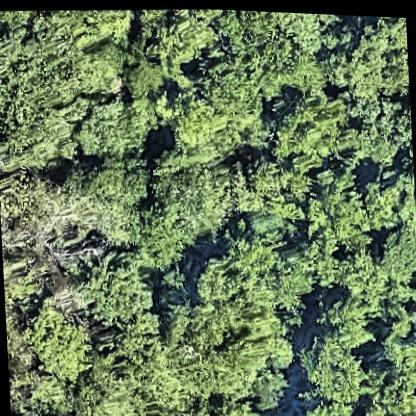tree-top: (144, 307, 270, 413), (0, 46, 111, 163), (209, 7, 321, 105), (192, 229, 296, 334), (146, 145, 236, 238), (170, 85, 258, 164), (230, 147, 310, 226), (72, 251, 154, 328), (66, 149, 150, 223), (330, 18, 406, 99), (270, 88, 348, 166), (297, 327, 368, 410), (75, 91, 154, 161), (26, 304, 94, 383), (305, 177, 375, 251), (140, 5, 218, 71), (0, 167, 77, 230), (344, 88, 412, 158), (69, 354, 145, 416), (44, 5, 135, 47), (363, 157, 416, 228), (2, 235, 48, 314), (316, 290, 376, 349), (340, 238, 396, 301), (374, 215, 416, 281), (377, 320, 416, 388), (357, 374, 416, 416), (196, 393, 265, 416), (290, 393, 358, 416), (0, 9, 43, 35)
